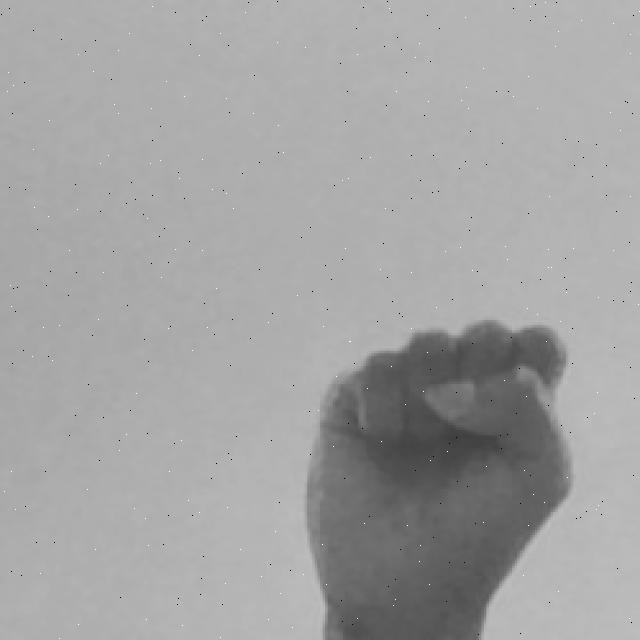S: (301, 311, 580, 640)
